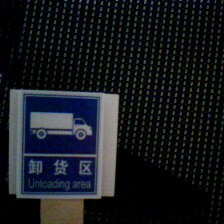unload: (16, 90, 105, 198)
